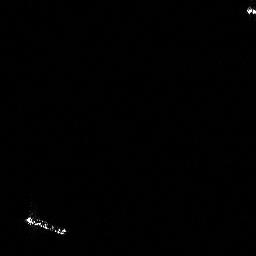ship: (21, 210, 71, 239)
